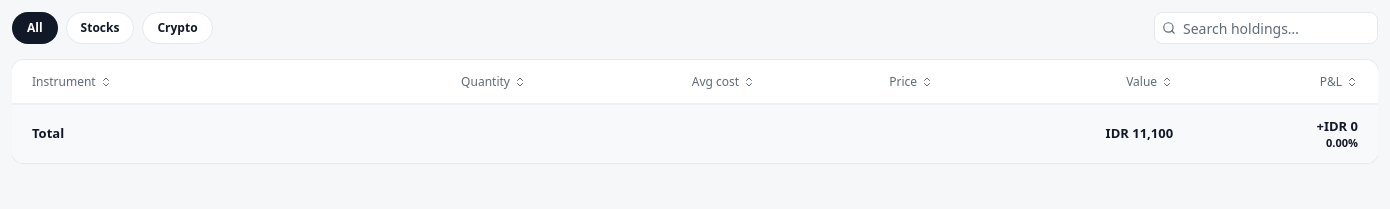
Test: PositionsPanel › shows noResults when the query matches nothing in a tab, but keeps every tab pill visible
Type "xyznonexistent" into the field with placeholder "Search holdings…" at (1266, 28), box [1154,12,1378,44]
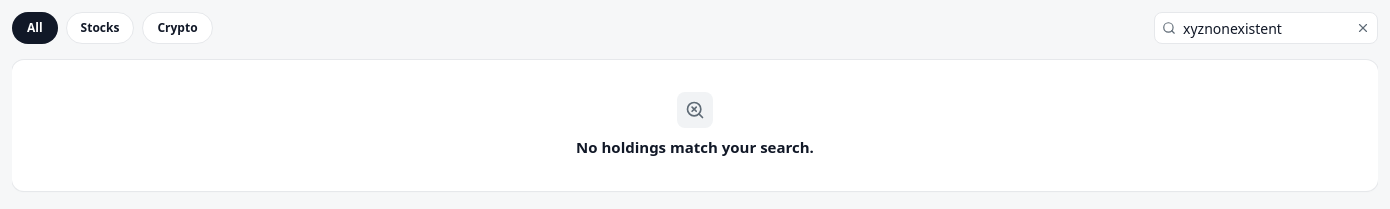
Expected: the tab "Stocks" is shown, [66,12,134,44]
Result: the text "No holdings match your search." is shown at [576,136,814,158]
